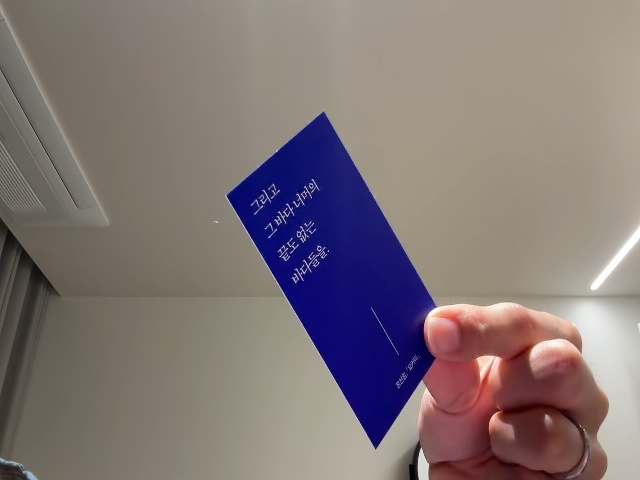card: (223, 112, 460, 451)
